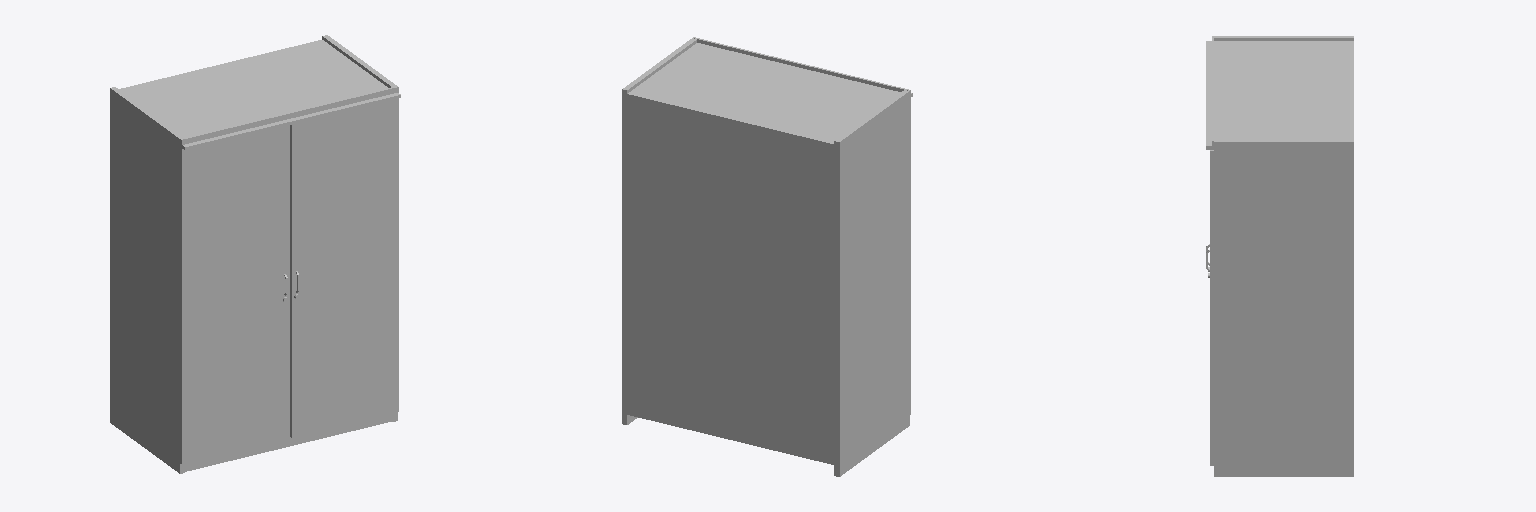
Rendered from Wardrobe.obj.
3 renders of one model, left to right at view 1: azimuth 30°, elevation 25°; view 2: azimuth 150°, elevation 25°; view 3: azimuth 270°, elevation 25°, orthographic.
Visible parts, largest first — view 1: off; view 2: off; view 3: off.
Boxes of the visible parts, <box> form: off: <box>110,35,400,473</box>; off: <box>622,37,912,476</box>; off: <box>1206,36,1353,476</box>.
Size of the model in its own units: 1.34 by 1.96 by 0.7906.